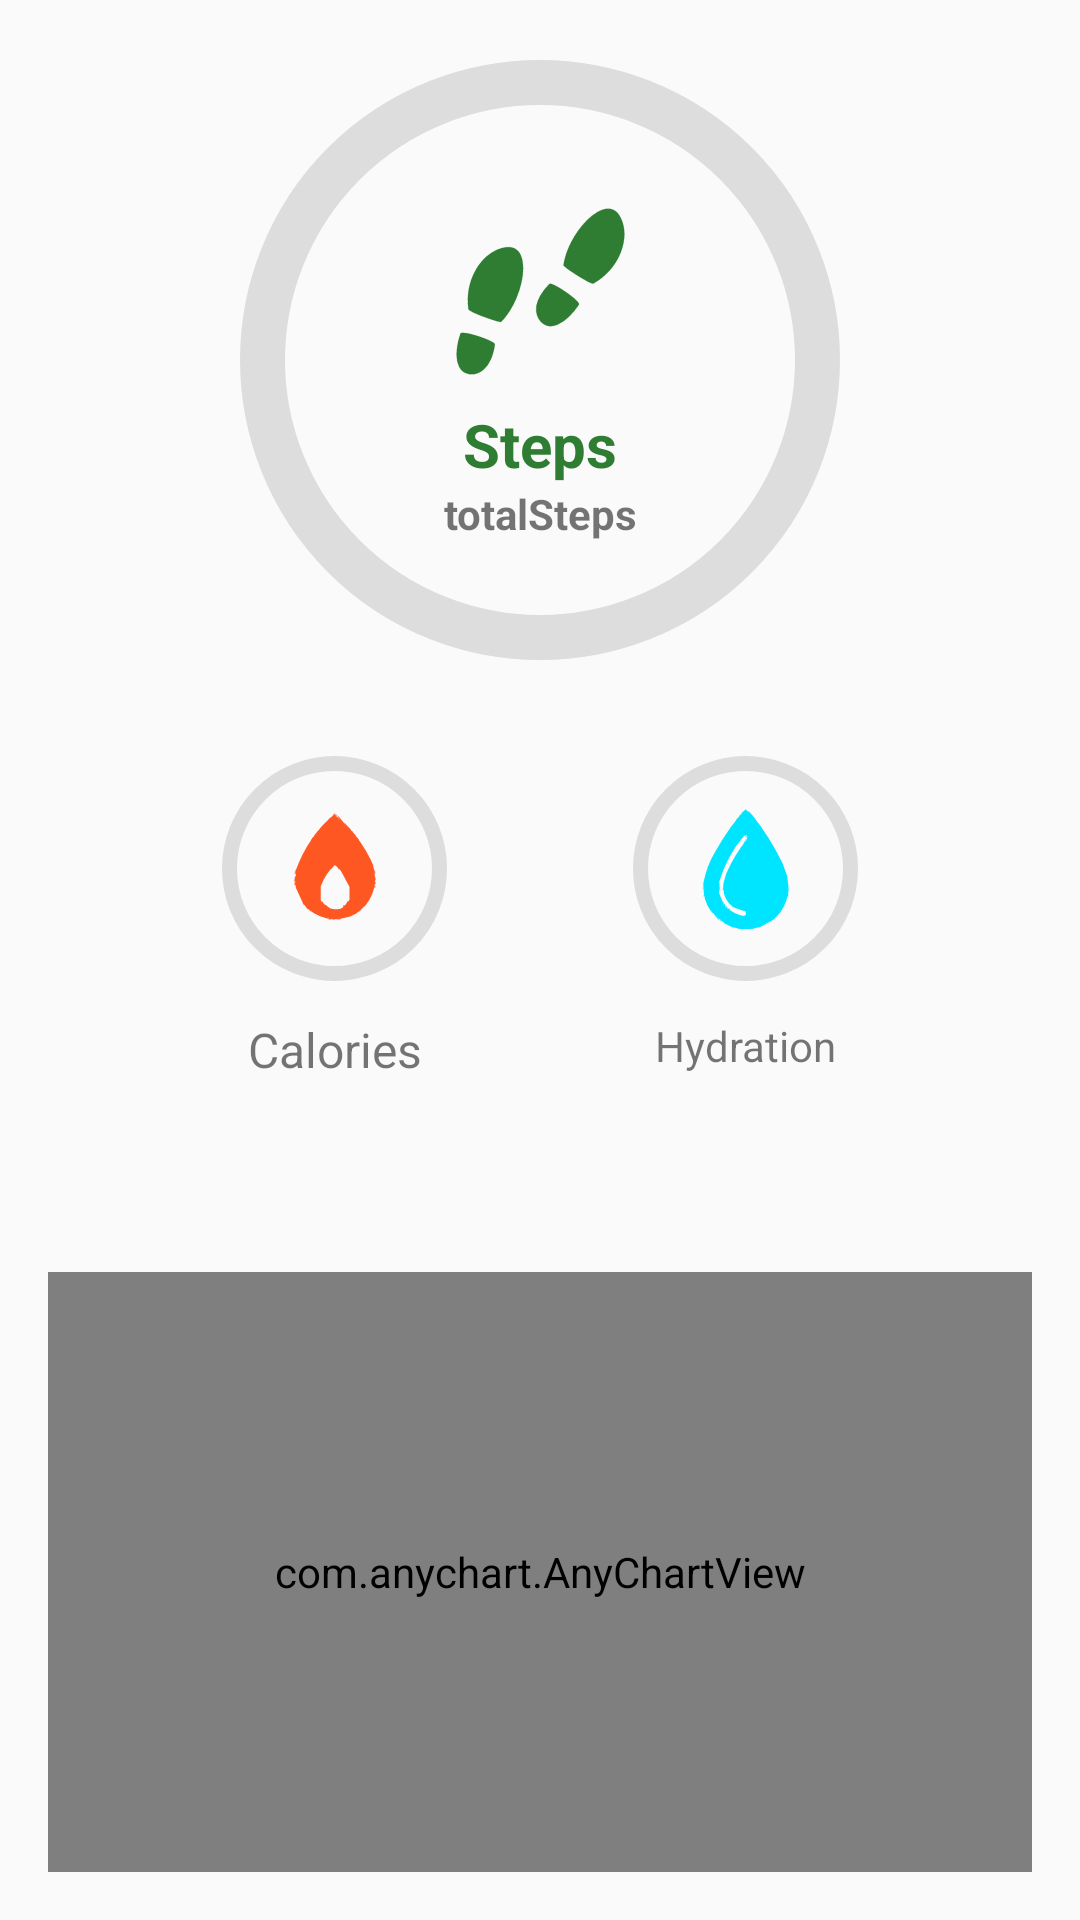

Locate icon controls on the screen. Image size 1080px x 1920px, boxes as (x1, y1, x2, y2).
kcal: (294, 813, 376, 920)
water: (702, 809, 790, 929)
